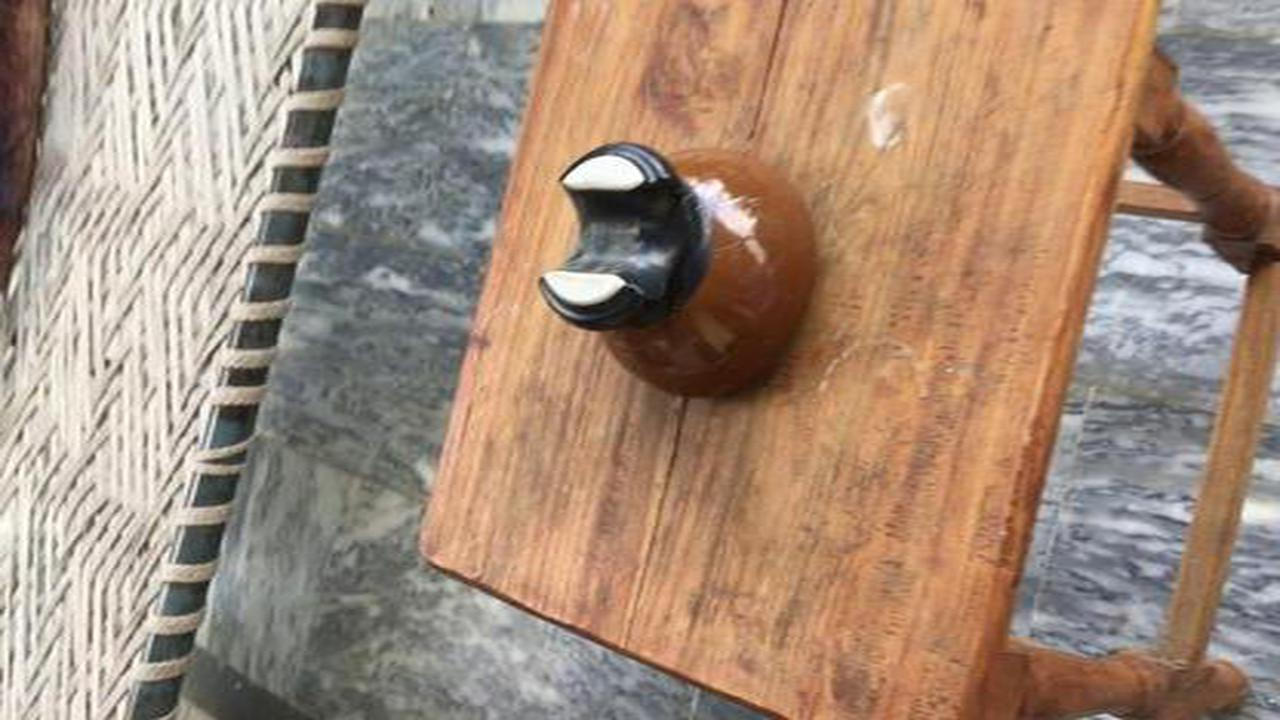insulator_pin: (521, 136, 841, 425)
